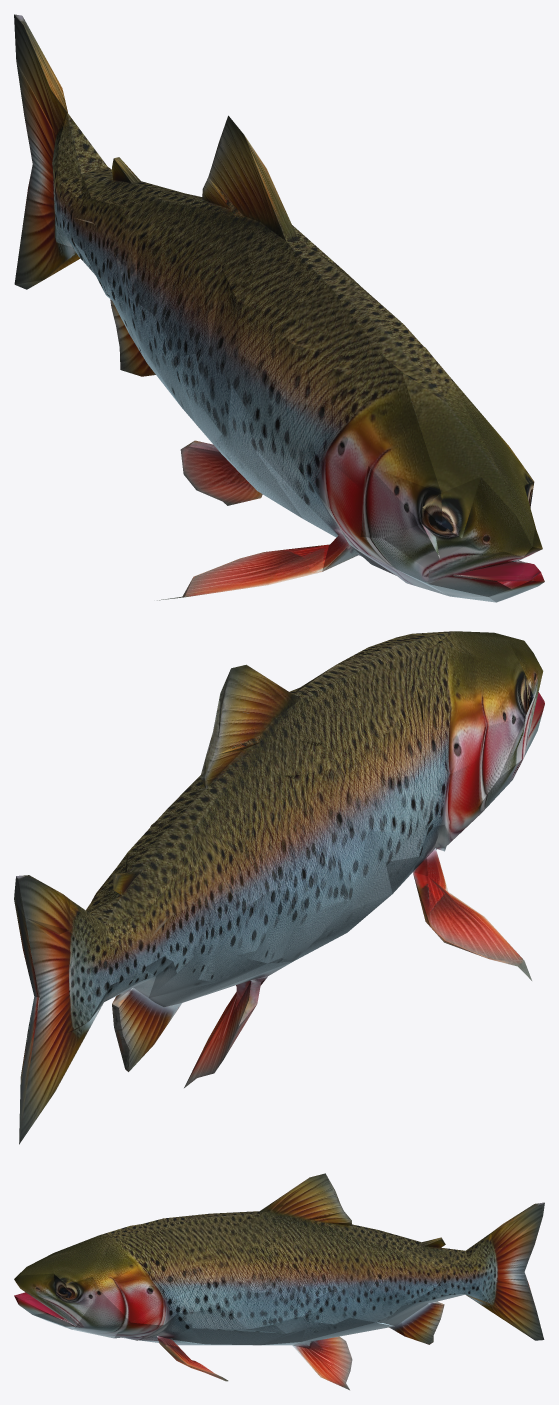
Rendered from trout.glb.
3 renders of one model, top to bottom at view 1: azimuth 30°, elevation 25°; view 2: azimuth 150°, elevation 25°; view 3: azimuth 270°, elevation 25°, orthographic. The views are drawn at different scales.
Size of the model in its own units: 0.774 by 0.8331 by 1.9.
1 material, 1 textured.
